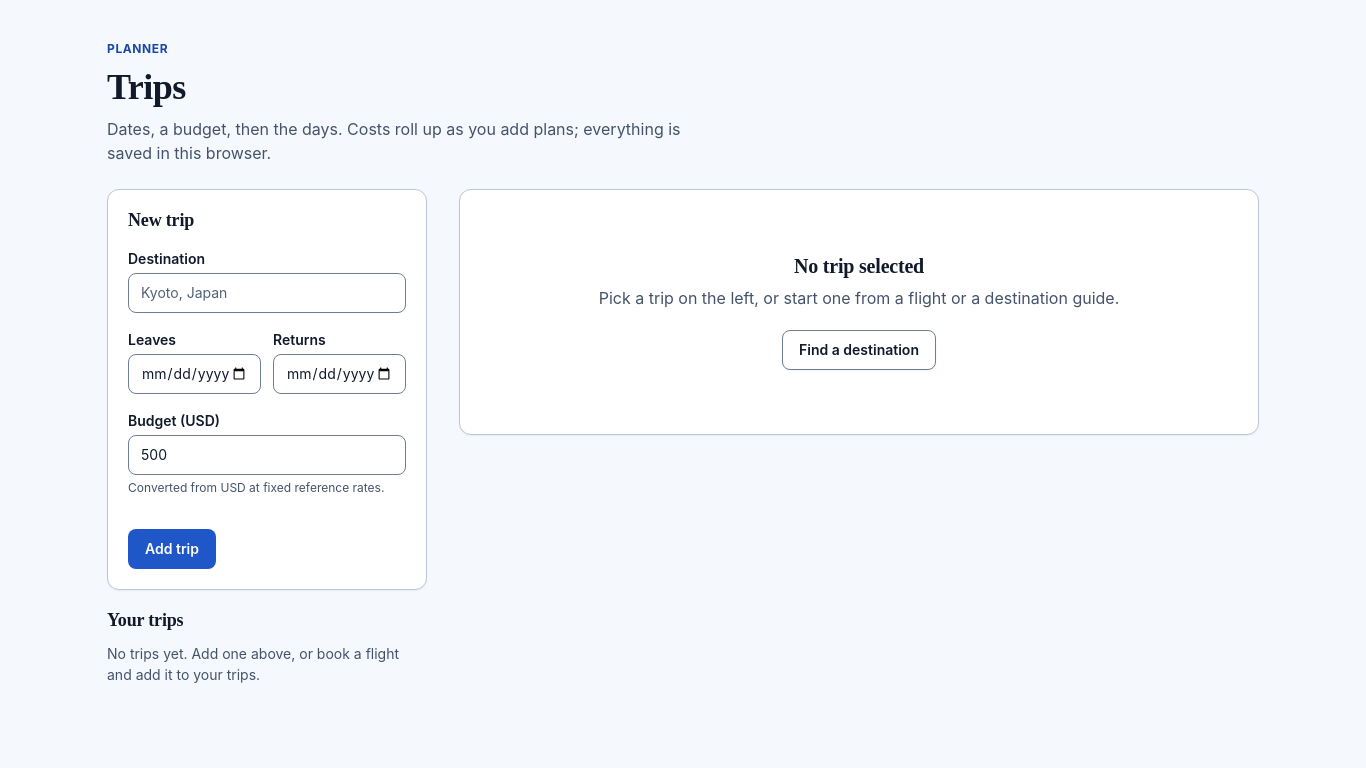
Test: TripsView › creates a trip and shows its itinerary with a costed activity
The image size is (1366, 768).
Type "Lisbon, Portugal" into the field with id "destination" at (267, 293), box [128, 273, 406, 313]
Type "2026-05-01" into the date field with id "startDate" at (194, 374), box [128, 354, 261, 394]
Type "2026-05-03" into the date field with id "endDate" at (340, 374), box [273, 354, 406, 394]
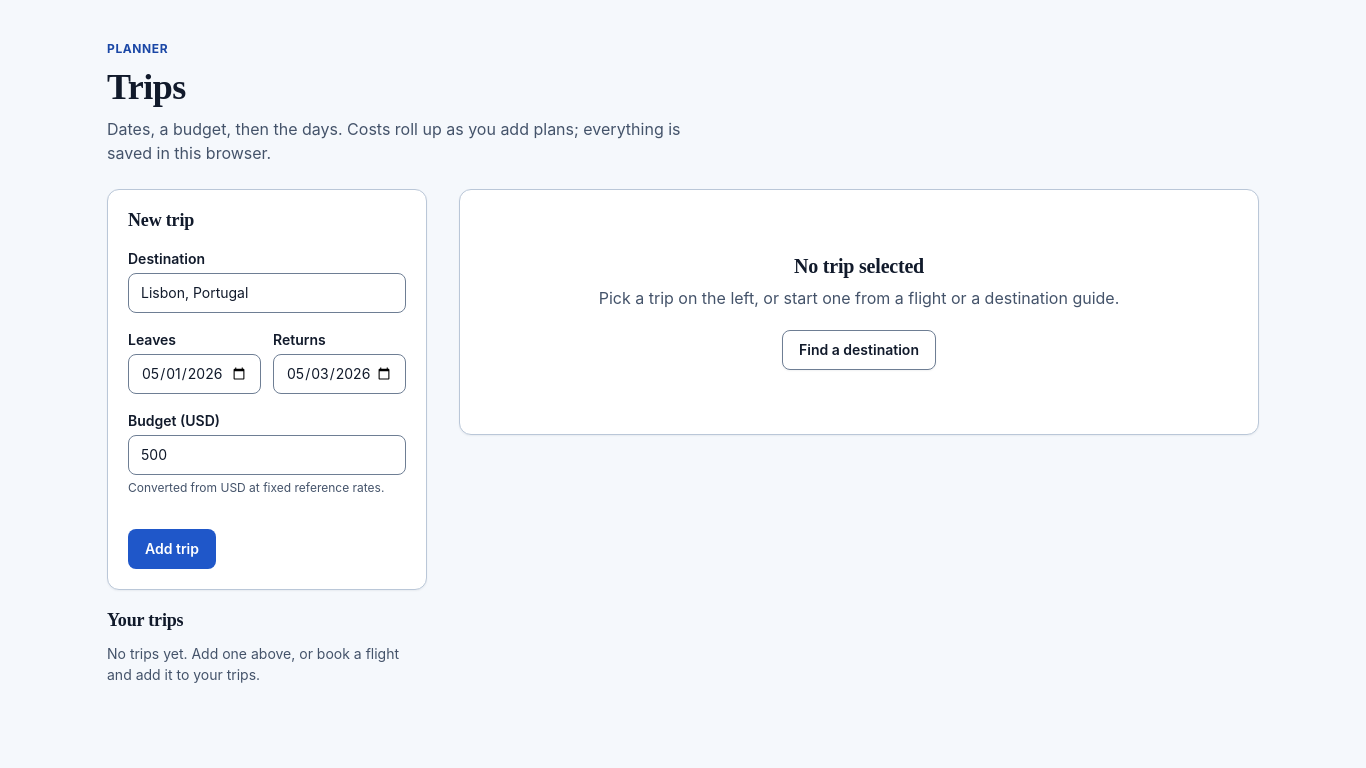
Replace the text in the number field with id "budget" with "300" at (267, 455), box [128, 435, 406, 475]
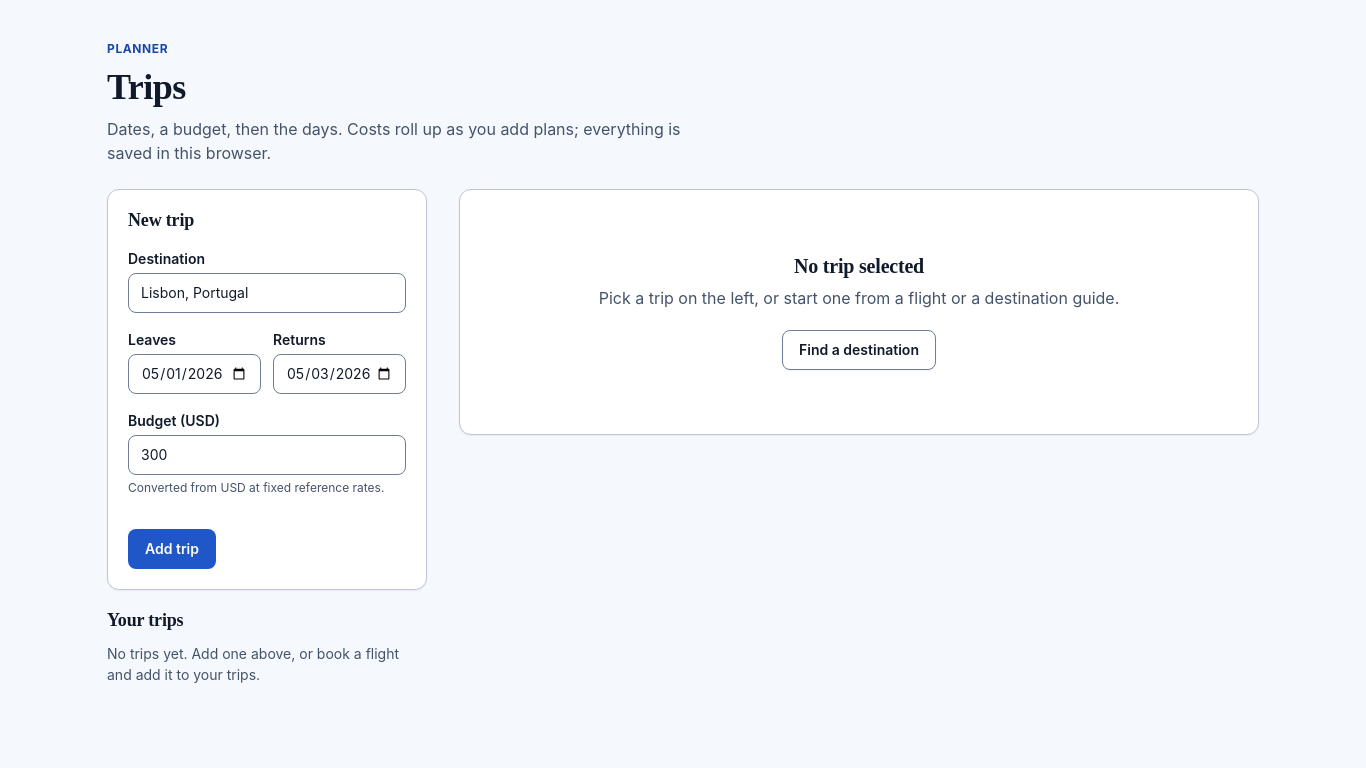
Submit the form with class "trip-form", box [107, 189, 427, 590]
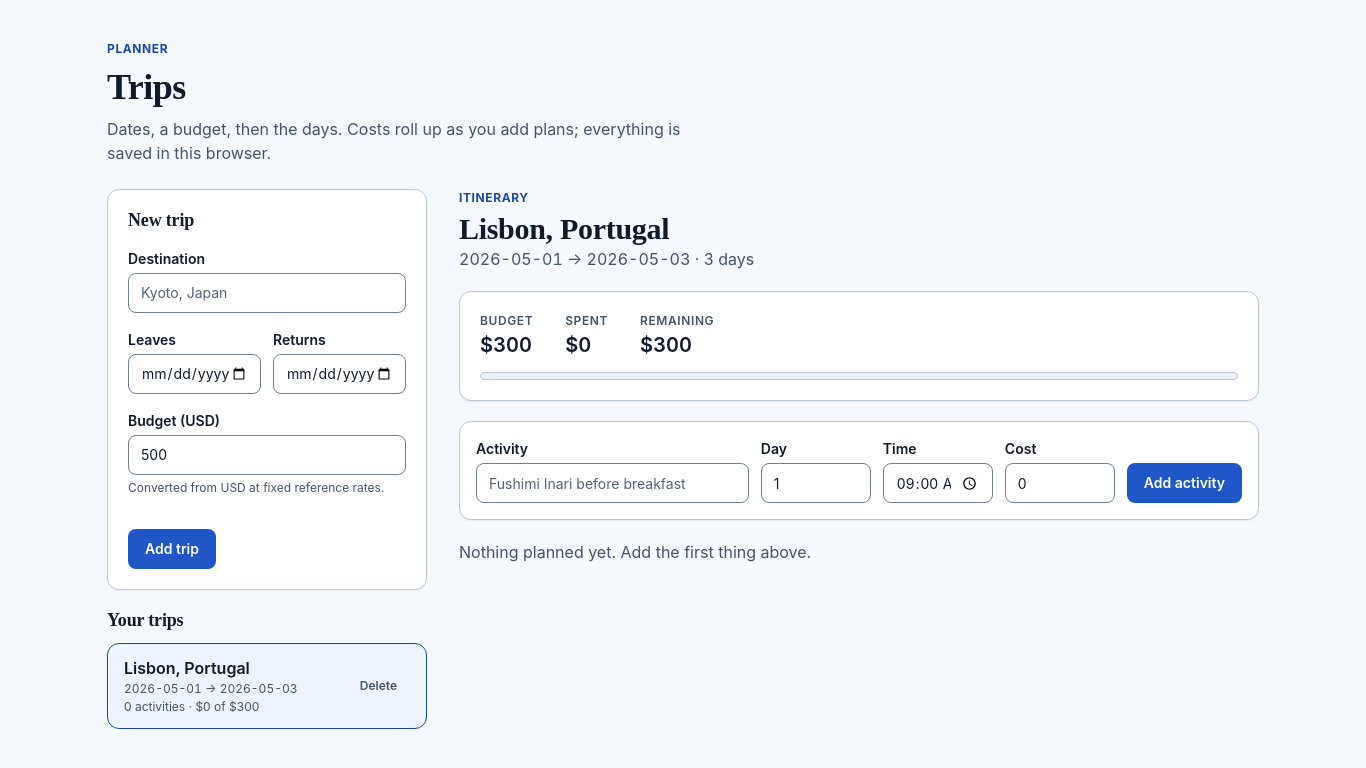
Expected: the element with class "itinerary" shows "Lisbon, Portugal", [459, 212, 669, 245]
Expected: the element with class "itinerary" shows "3 days", [695, 249, 754, 269]
Type "Tram 28" into the field labelled "Activity" at (612, 483), box [476, 463, 749, 503]
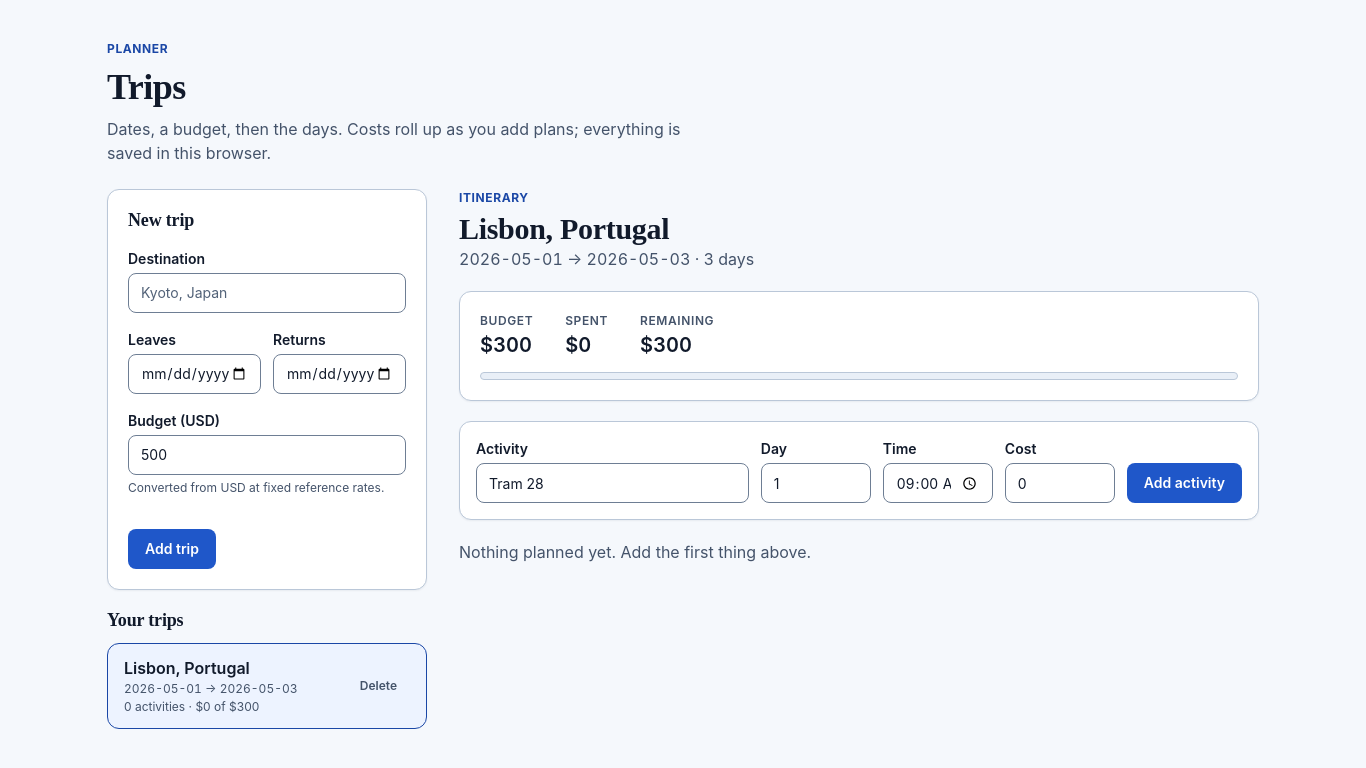
Replace the text in the number field labelled "Cost" with "20" at (1060, 483), box [1005, 463, 1115, 503]
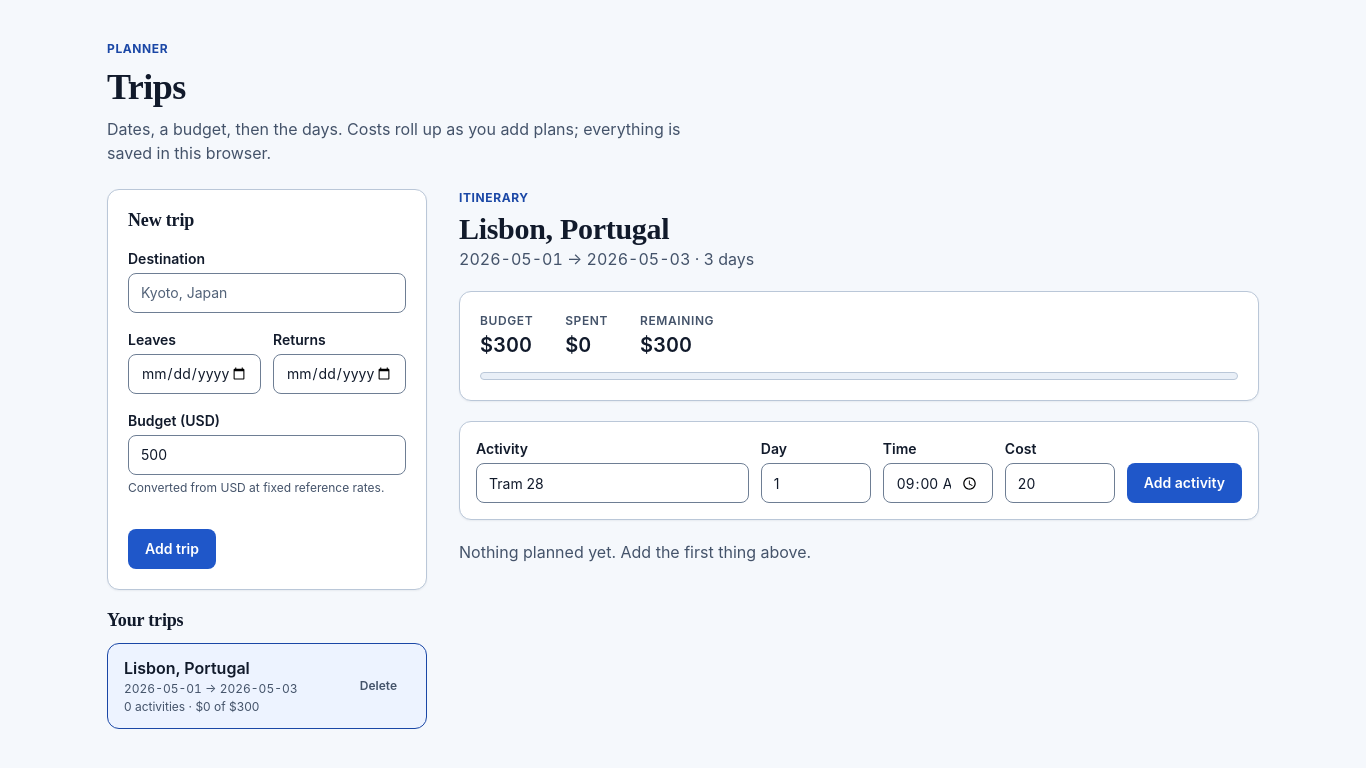
Submit the form with class "activity-form", box [459, 421, 1259, 520]
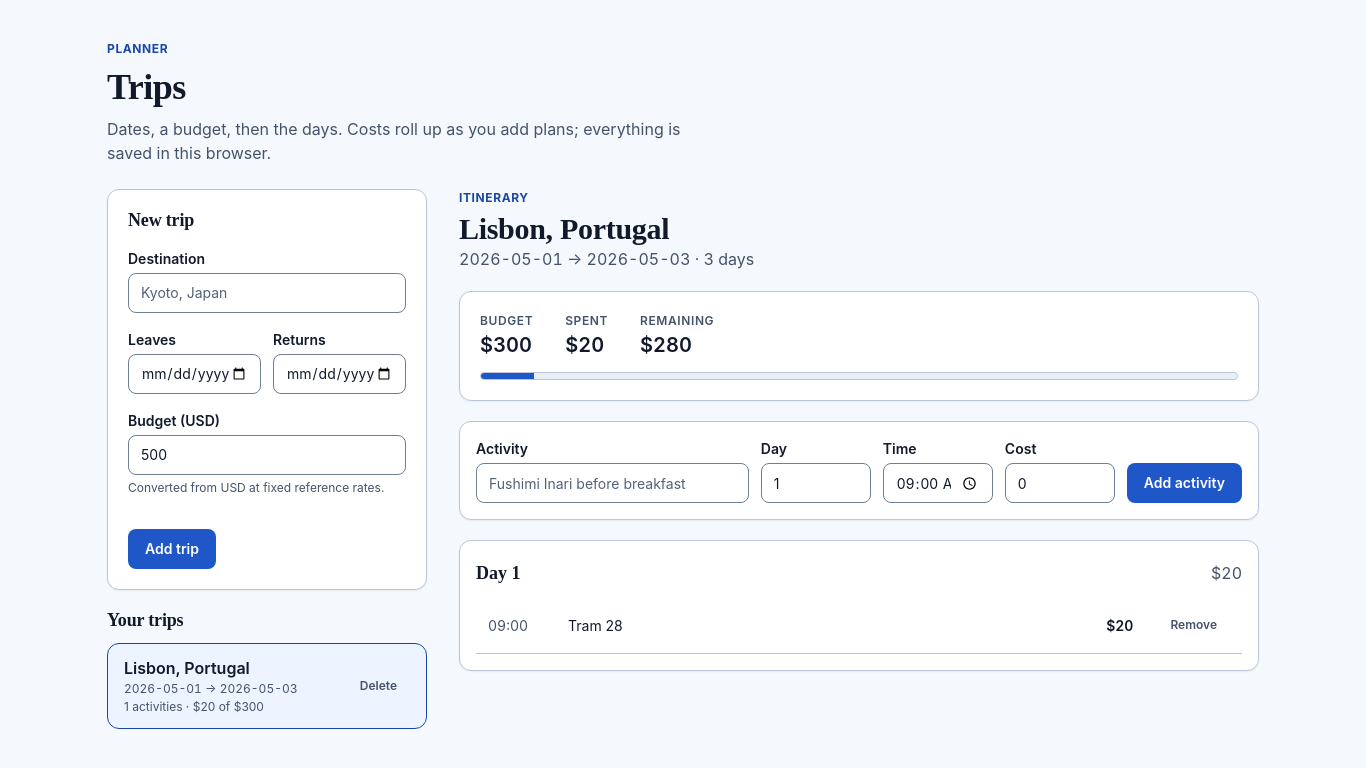
Expected: the element with class "budget" shows "$280", [640, 333, 692, 357]
Expected: the element with class "day-group" shows "Tram 28", [568, 617, 623, 634]
